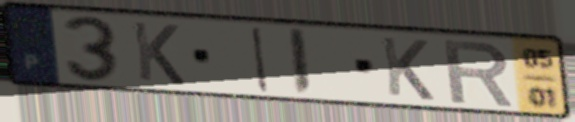3: (60, 14, 123, 84)
I: (285, 26, 314, 98), (249, 24, 272, 94)
K: (378, 34, 438, 104), (129, 19, 189, 88)
R: (440, 37, 517, 109)
